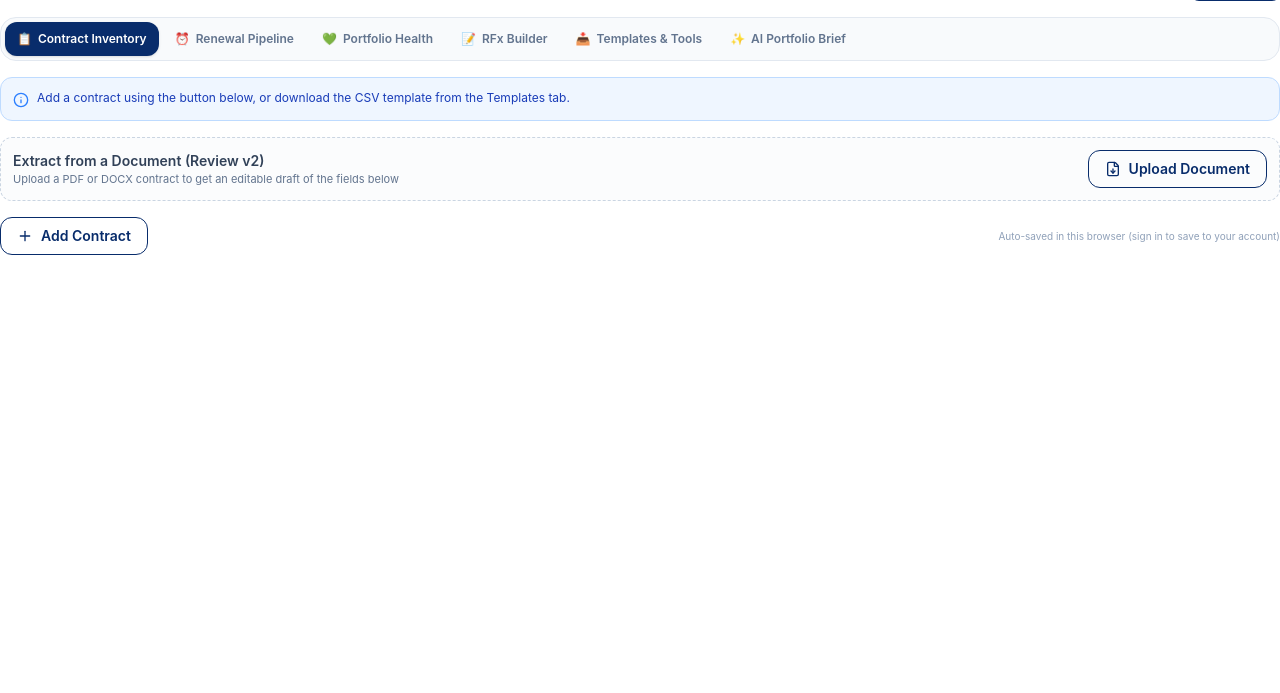
it: #396 RFx panel Guided vs Expert toggle › defaults to Guided mode: elicitation guidance and field "why" text are visible
Click the tab "📝 RFx Builder" at coordinates (504, 39), box x1=449 y1=22 x2=560 y2=56
(page scrolled)
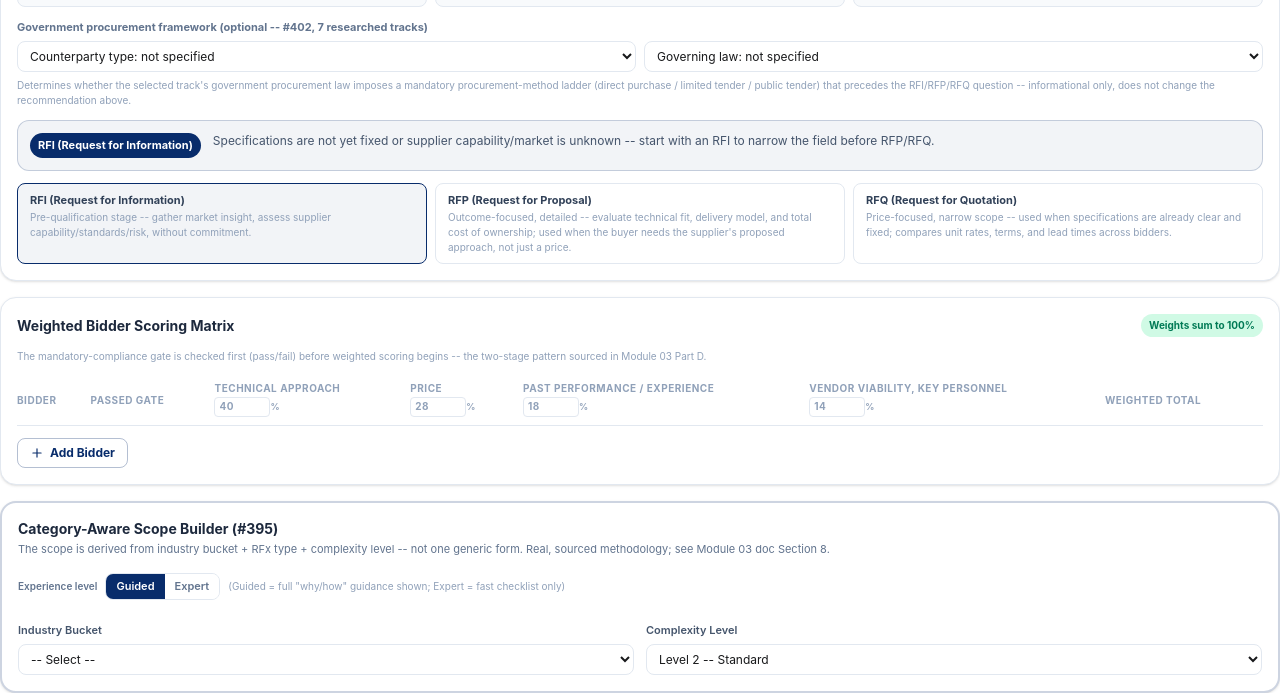
Select "Supply / Goods" in the 3rd dropdown showing "-- Select --" at coordinates (326, 659), box x1=18 y1=644 x2=634 y2=675
(page scrolled)
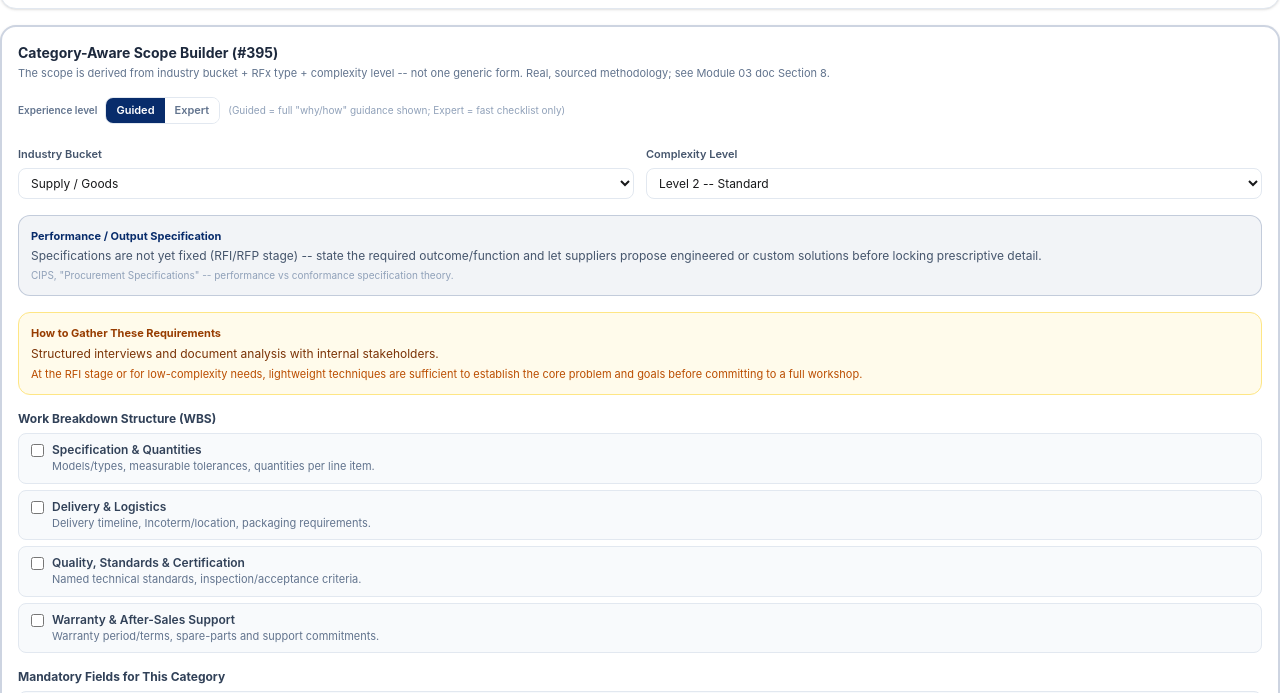
Now the button "Guided" is shown, box x1=106 y1=98 x2=164 y2=123
Now the button "Expert" is shown, box x1=164 y1=98 x2=219 y2=123
Now the text "How to Gather These Requirements" is shown, box x1=31 y1=326 x2=221 y2=340
